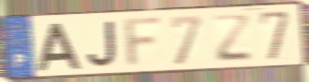7: (169, 13, 205, 67), (258, 9, 292, 62)
A: (35, 22, 83, 73)
F: (122, 14, 166, 71)
J: (85, 19, 119, 69)
Z: (211, 14, 254, 64)
